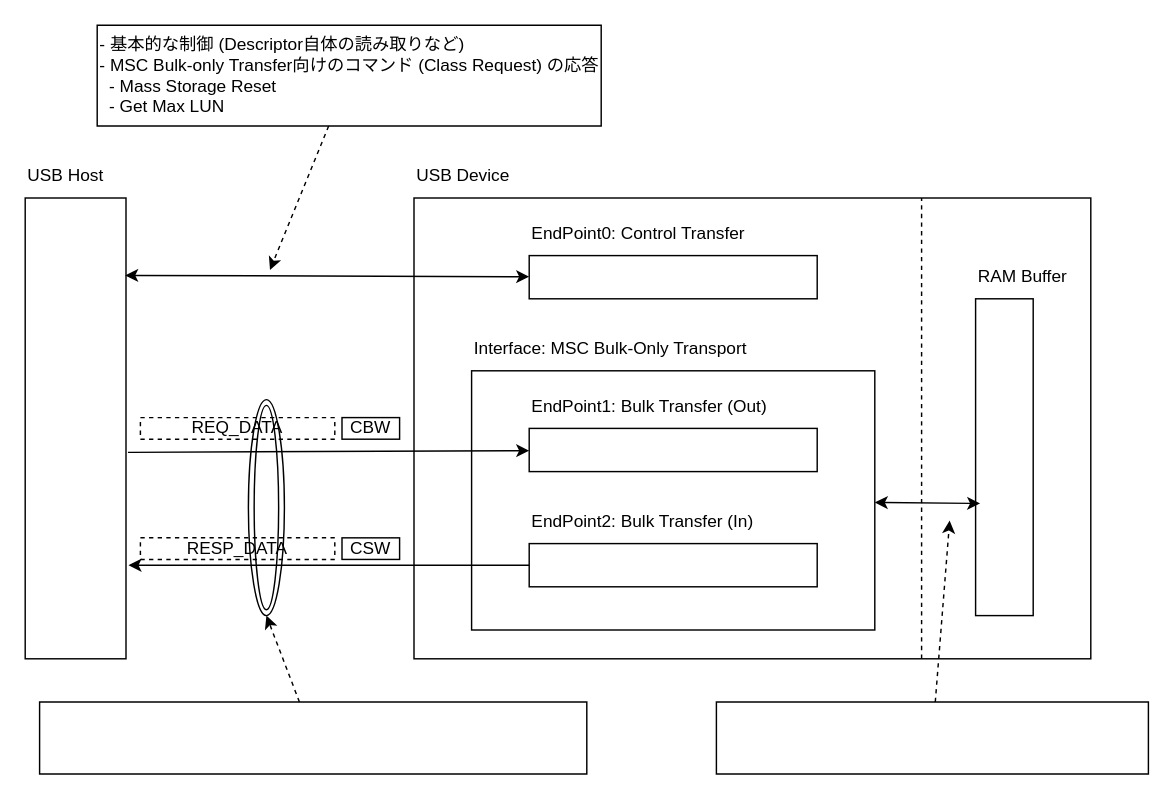
Image size: 1174x799. Some labels were removed from this diagram. Here are the shapes that lost their labels. From the top down, the centre of each, then its label:
At pixel 312 737: "- Hostからコマンド・データの要求があるので、中身を読み取り処理 - コマンドの応答やRead Dataの送信は Bulk In のEndPointを利用".
At pixel 931 737: "コマンドを処理し、内部のRAMのデータを読み書き".
